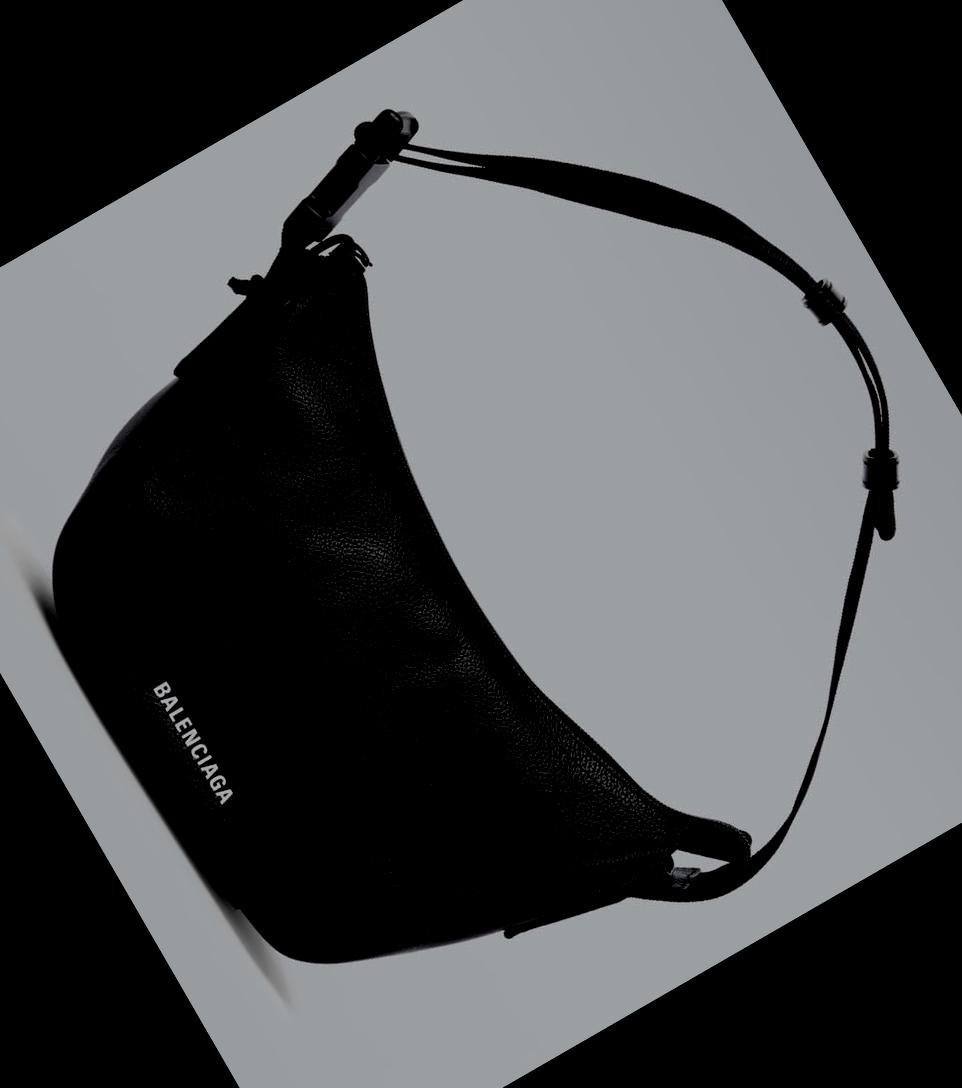BALENCIAGA: (151, 680, 234, 806)
